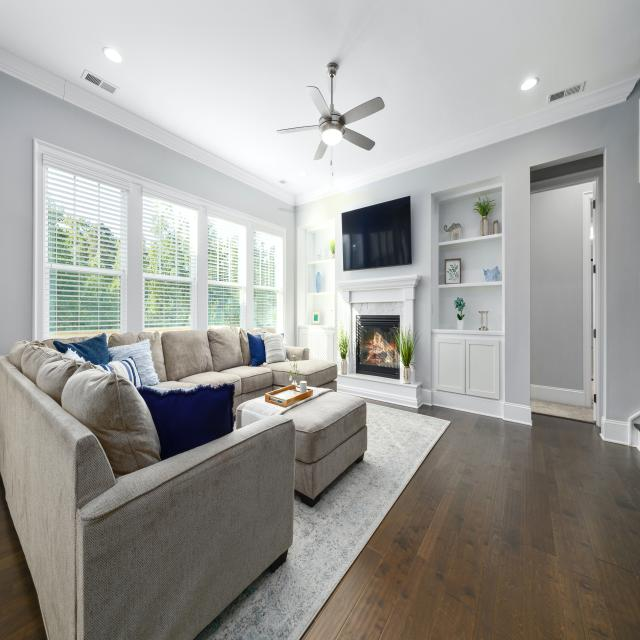floor: (299, 395, 640, 640), (0, 472, 49, 640)
wall: (295, 82, 640, 422), (0, 70, 295, 355), (32, 138, 287, 346), (530, 181, 593, 390), (431, 175, 504, 329), (335, 274, 421, 373), (431, 329, 504, 402), (438, 238, 502, 285), (438, 285, 502, 331), (439, 197, 482, 243), (298, 324, 335, 362), (297, 228, 307, 347), (480, 191, 502, 235), (307, 261, 335, 293), (307, 228, 334, 261), (313, 293, 335, 325), (306, 232, 313, 262), (307, 295, 313, 325), (307, 265, 313, 293)
